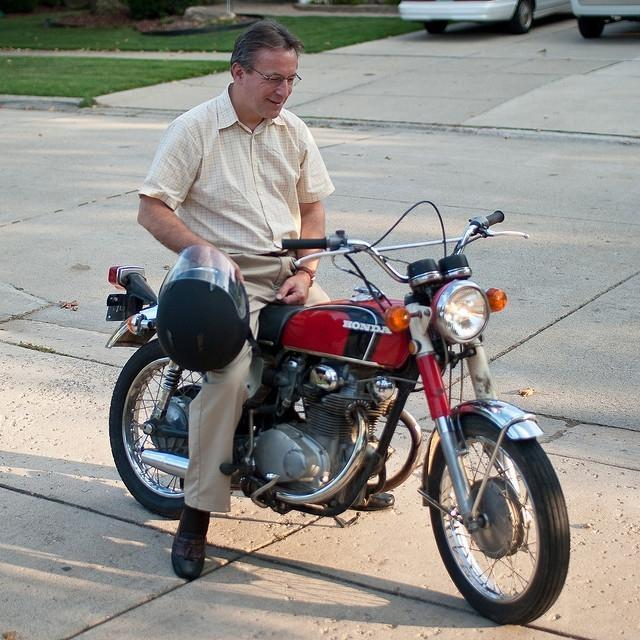car: (400, 0, 574, 37), (569, 0, 640, 41)
motorcycle: (94, 214, 578, 628)
